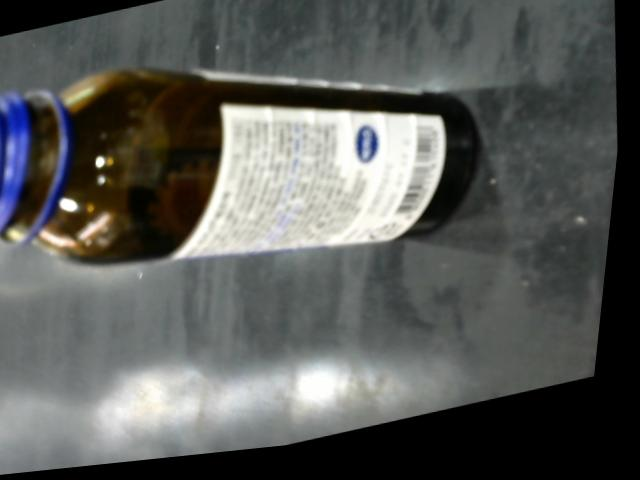glass: (0, 66, 492, 276)
